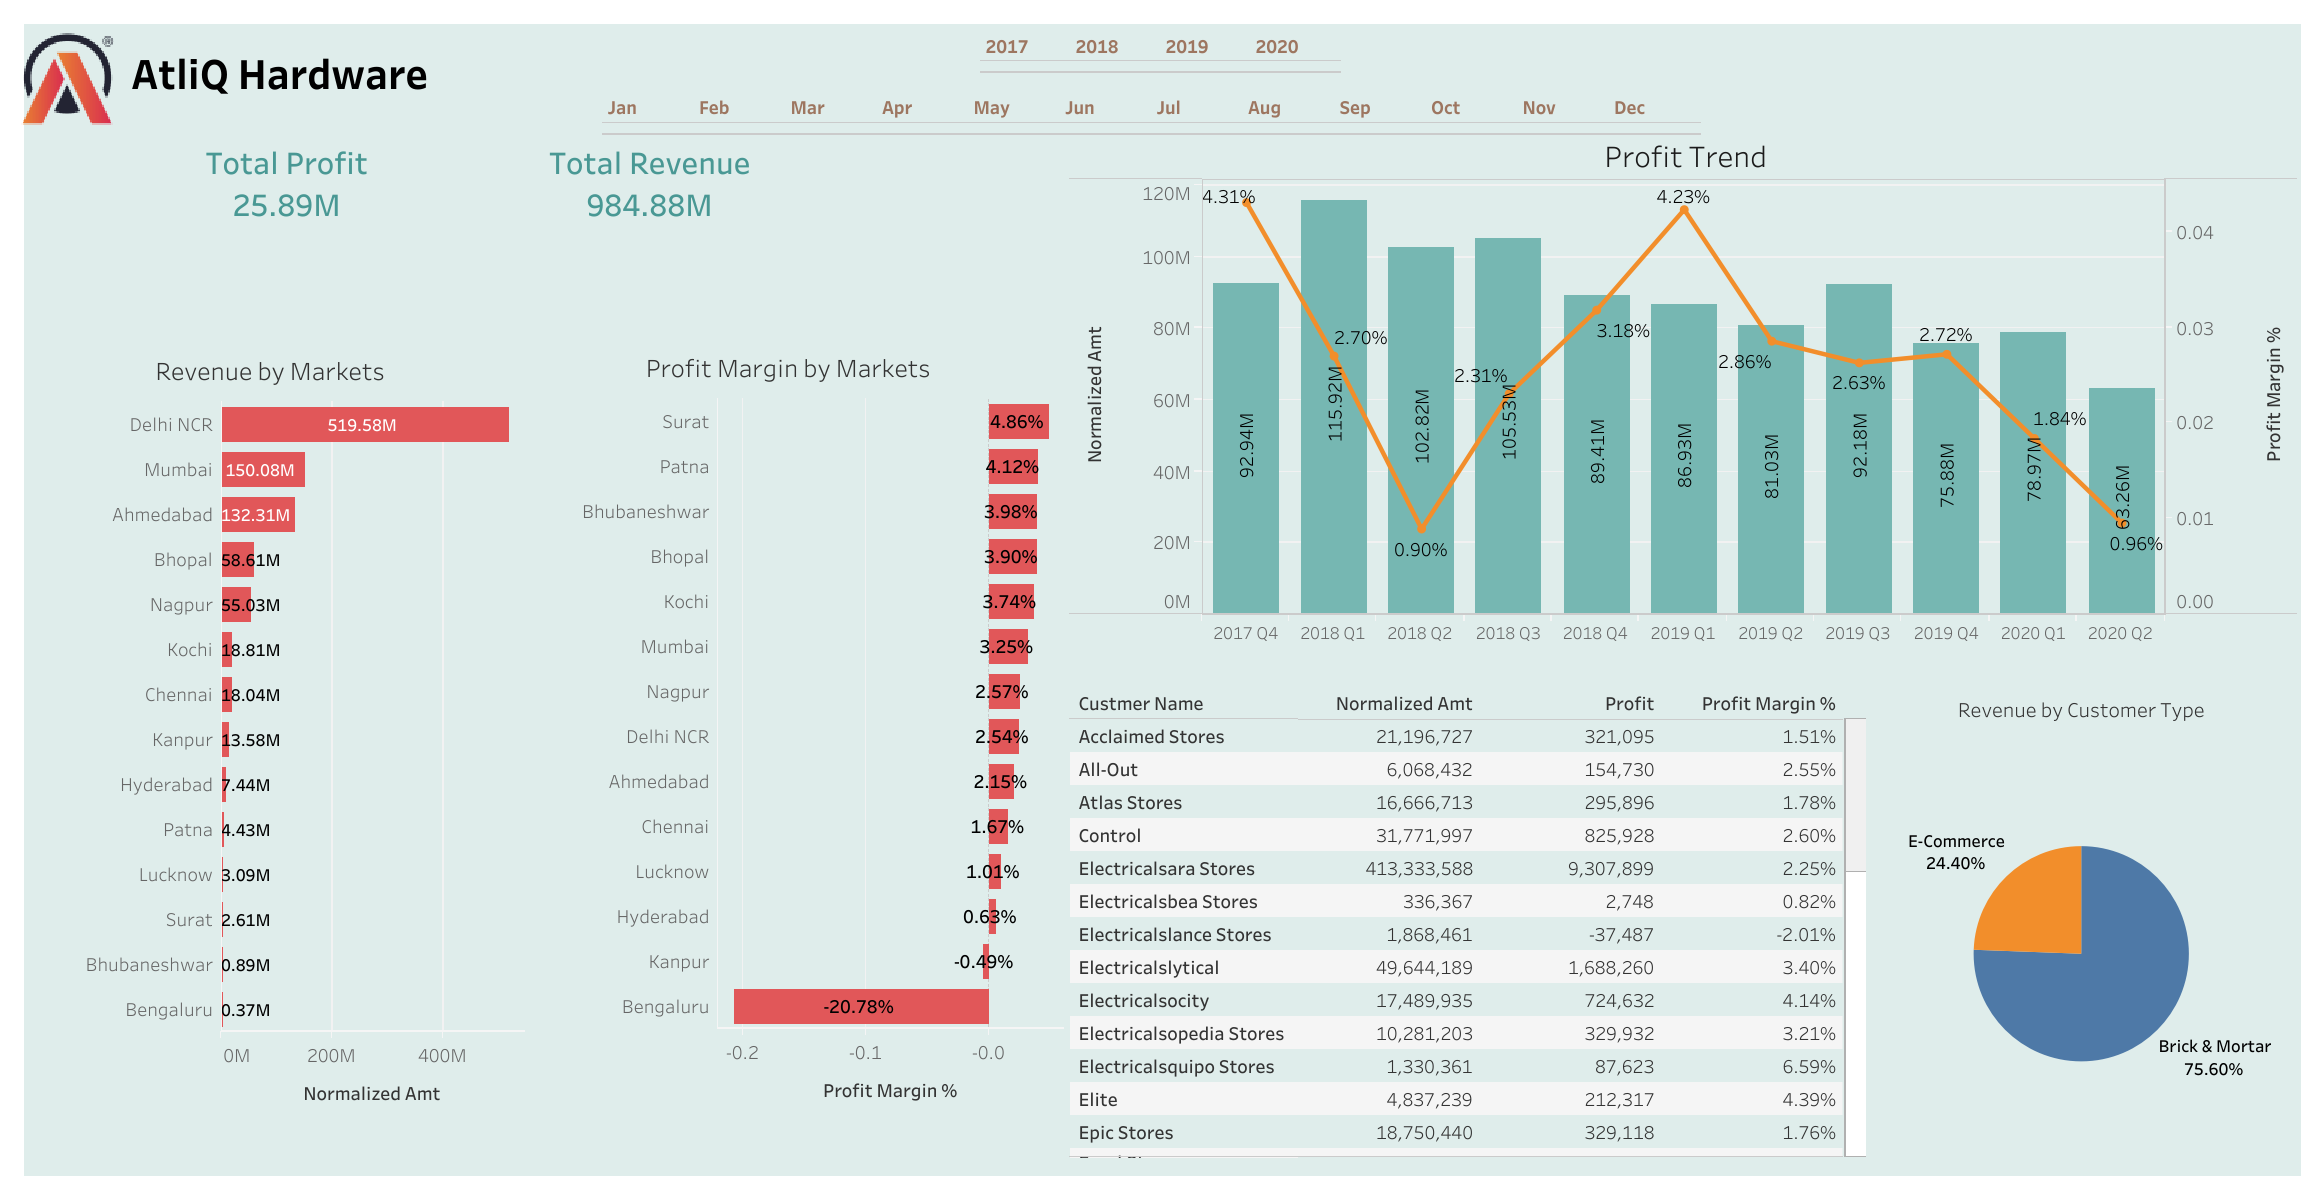

The dashboard page shown, as its layout file describes it:
{"tool":"tableau","page":{"name":"Dashboard 2","canvas":[1550,800],"ordinal":0},"visuals":[{"type":"worksheet","title":"Year","mark":"Automatic","cols":["cy_date"],"box":[653.2,19.8,266.7,46.6]},{"type":"text","box":[85,20,303,55]},{"type":"image","param":"C:/Users/DELL/Downloads/atliq_logo.png","box":[14.5,20.8,99.5,62.5]},{"type":"worksheet","title":"Month","mark":"Automatic","cols":["cy_date"],"box":[401,60.5,799.2,52.6]},{"type":"text","box":[1066.6,84,162.8,39]},{"type":"worksheet","title":"Profit","mark":"Automatic","box":[63.9,94,259.6,107]},{"type":"worksheet","title":"Revenue","mark":"Automatic","box":[353.6,94,273.2,99]},{"type":"worksheet","title":"Profit Trend","mark":"Bar","rows":["Calculation_622904164110942208","Calculation_313563165111562242"],"cols":["cy_date"],"box":[713.2,119.1,818.5,311.7]},{"type":"worksheet","title":"Profit Margin by Markets","mark":"Automatic","rows":["markets_name"],"cols":["Calculation_313563165111562242"],"box":[342,227,367.2,551]},{"type":"worksheet","title":"Revenue by Markets","mark":"Automatic","rows":["markets_name"],"cols":["Calculation_622904164110942208"],"box":[10.7,229,338.1,549]},{"type":"worksheet","title":"Revenue by Customer Type","mark":"Pie","box":[1243.7,456.6,287,323.6]},{"type":"worksheet","title":"Customer","mark":"Automatic","rows":["custmer_name"],"box":[713,457,541.5,315]}]}

Visuals, with their boxes in screenshot pixels (x1, y1, x2, y2), scaled from the page's 1550x800 canvas onto the 2324x1199 screenshot:
"Year" worksheet: locate(979, 30, 1379, 100)
text: locate(127, 30, 582, 112)
image: locate(22, 31, 171, 125)
"Month" worksheet: locate(601, 91, 1800, 170)
text: locate(1599, 126, 1843, 184)
"Profit" worksheet: locate(96, 141, 485, 301)
"Revenue" worksheet: locate(530, 141, 940, 289)
"Profit Trend" worksheet (Bar marks): locate(1069, 179, 2297, 646)
"Profit Margin by Markets" worksheet: locate(513, 340, 1063, 1166)
"Revenue by Markets" worksheet: locate(16, 343, 523, 1166)
"Revenue by Customer Type" worksheet (Pie marks): locate(1865, 684, 2295, 1169)
"Customer" worksheet: locate(1069, 685, 1881, 1157)
